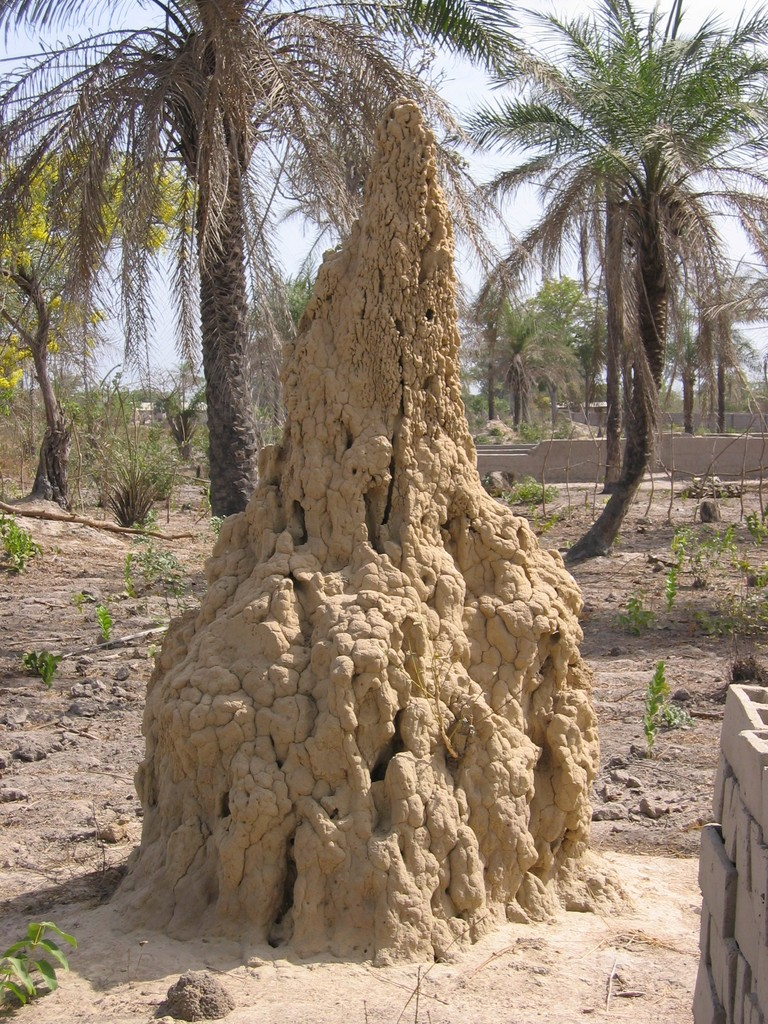Tree: (0, 0, 768, 567)
